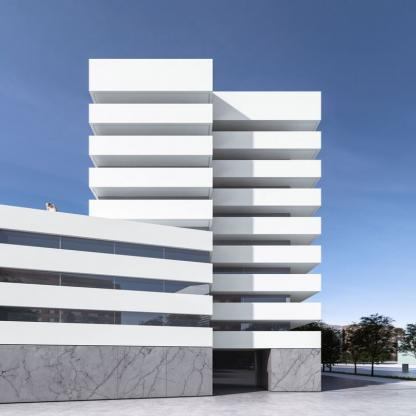Building Outline: (0, 59, 321, 403)
Dont: (46, 202, 58, 212)
Facade: (89, 91, 322, 392)
Floor: (0, 252, 213, 303), (0, 294, 213, 331), (213, 92, 321, 141), (89, 123, 213, 151), (89, 155, 213, 183), (89, 187, 213, 215), (213, 280, 321, 306), (213, 310, 321, 335), (213, 253, 321, 277), (213, 226, 321, 250), (213, 144, 321, 168), (213, 199, 321, 222), (213, 172, 321, 195), (89, 219, 213, 236)
Floor Slab: (0, 247, 213, 271), (0, 290, 213, 306), (89, 236, 213, 240), (89, 151, 213, 155), (89, 183, 213, 187), (89, 215, 213, 219), (89, 119, 213, 123), (213, 195, 321, 199), (213, 168, 321, 172), (213, 140, 321, 144), (213, 306, 321, 309), (213, 277, 321, 280), (213, 250, 321, 253), (213, 222, 321, 225), (213, 335, 321, 338)
Glass Wall: (213, 351, 264, 389)
Ground Floor: (0, 325, 213, 403), (213, 338, 321, 392)
Top Floor: (0, 204, 213, 267), (89, 59, 213, 119)
Window: (0, 229, 210, 263), (0, 268, 209, 295), (0, 305, 213, 328), (97, 103, 208, 113), (98, 226, 209, 236), (98, 135, 209, 145), (98, 196, 209, 206), (98, 166, 209, 175), (213, 293, 290, 303), (213, 267, 290, 277), (213, 212, 290, 222), (213, 240, 290, 250), (213, 321, 290, 331), (213, 131, 290, 140), (213, 186, 290, 195), (213, 159, 290, 168)
Window Hole: (0, 228, 213, 264), (0, 267, 213, 295), (0, 305, 213, 328), (89, 91, 213, 104), (89, 155, 213, 168), (89, 123, 213, 135), (89, 187, 213, 199), (213, 319, 321, 331), (213, 291, 321, 303), (213, 234, 321, 246), (213, 120, 321, 132), (213, 263, 321, 274), (213, 206, 321, 217), (213, 177, 321, 188), (213, 149, 321, 160)
